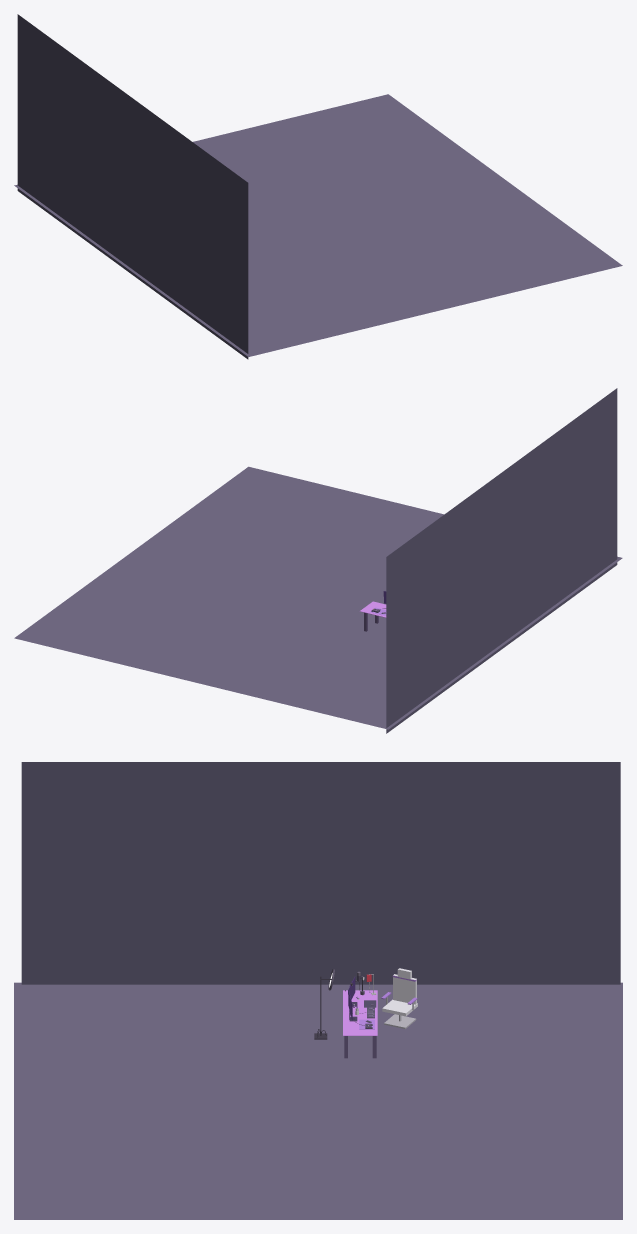
Rendered from room.glb.
3 views of the same model, one above another, from view 1: azimuth 30°, elevation 25°; view 2: azimuth 150°, elevation 25°; view 3: azimuth 270°, elevation 25° (orthographic). The views are drawn at different scales.
Visible parts, largest first — view 1: Floor, Ceiling; view 2: Floor, Ceiling; view 3: Floor, Ceiling, LED_Strip.
Boxes of the visible parts, bbox=[...] form: Floor: bbox=[14, 94, 622, 356]; Ceiling: bbox=[17, 14, 248, 359]; Floor: bbox=[14, 466, 622, 729]; Ceiling: bbox=[386, 388, 617, 733]; Floor: bbox=[14, 982, 622, 1219]; Ceiling: bbox=[21, 762, 620, 984]; LED_Strip: bbox=[343, 990, 377, 1035].
Size of the model in its own units: 17.72 by 8 by 19.22.
